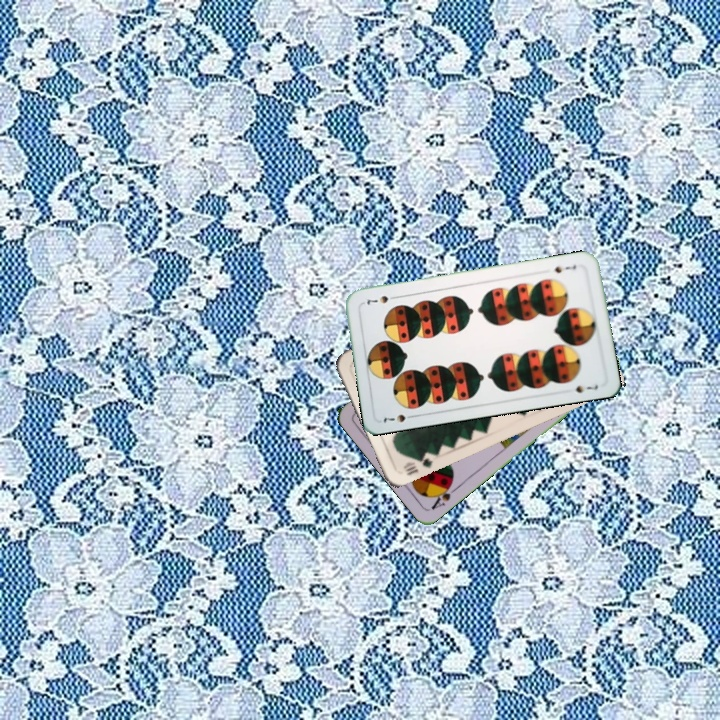G10: (399, 450, 436, 478)
S7: (378, 410, 418, 426), (548, 261, 579, 275)
SA: (426, 477, 461, 512)
